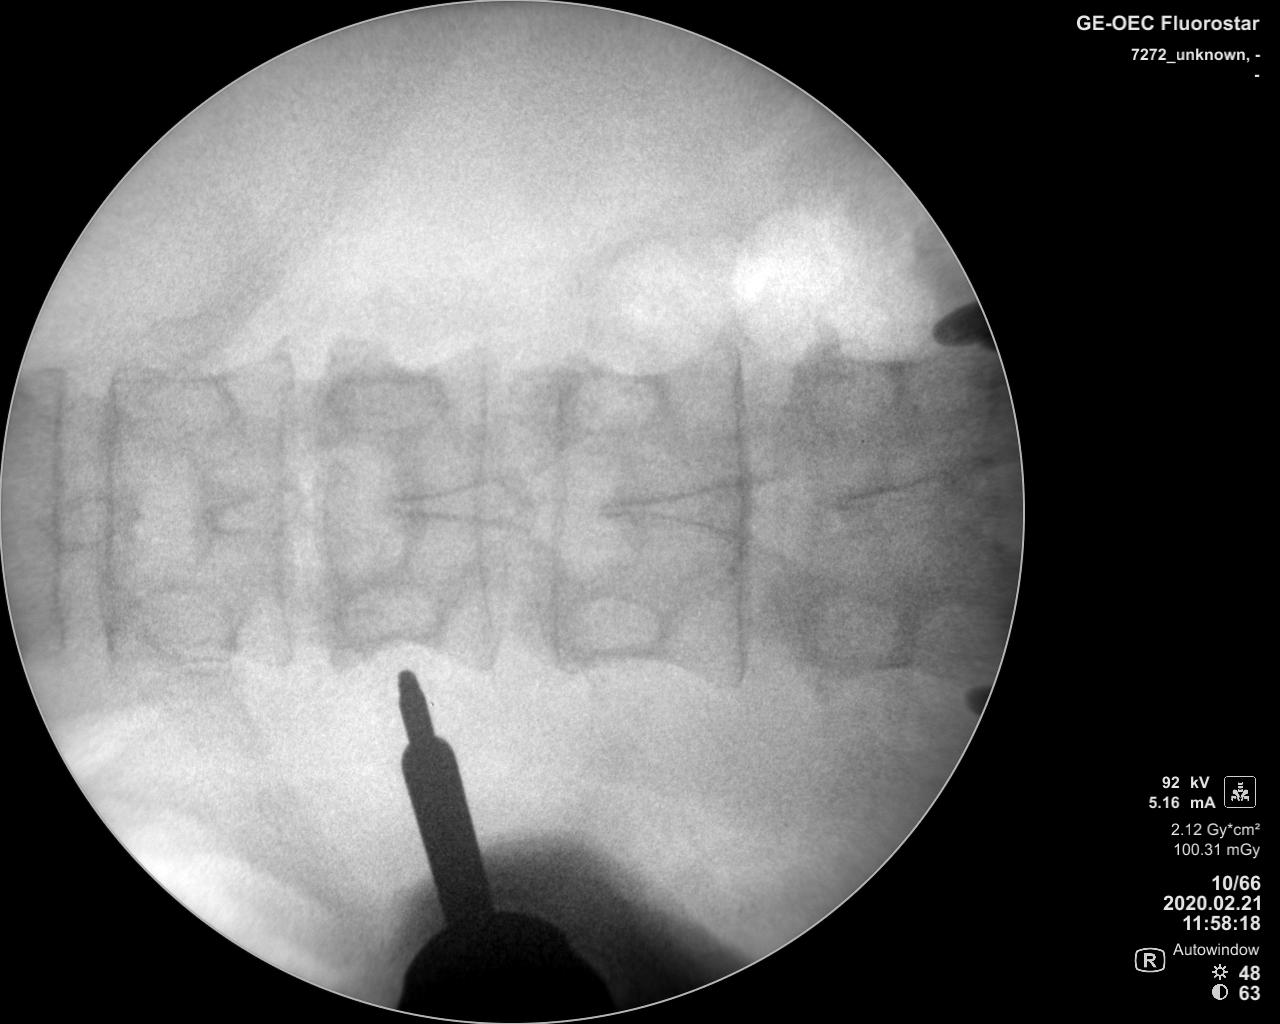eyes: (799, 348, 913, 436), (125, 578, 241, 662), (115, 362, 234, 443), (328, 362, 451, 439), (326, 573, 443, 648), (560, 359, 662, 437), (802, 589, 897, 673), (560, 594, 670, 664)
line: (466, 329, 513, 676), (718, 324, 755, 688), (260, 330, 297, 676), (539, 335, 573, 678), (40, 358, 76, 670), (96, 352, 127, 681)
nose: (594, 476, 774, 543), (376, 473, 522, 532), (19, 485, 145, 546), (828, 467, 963, 522), (191, 484, 315, 537)
